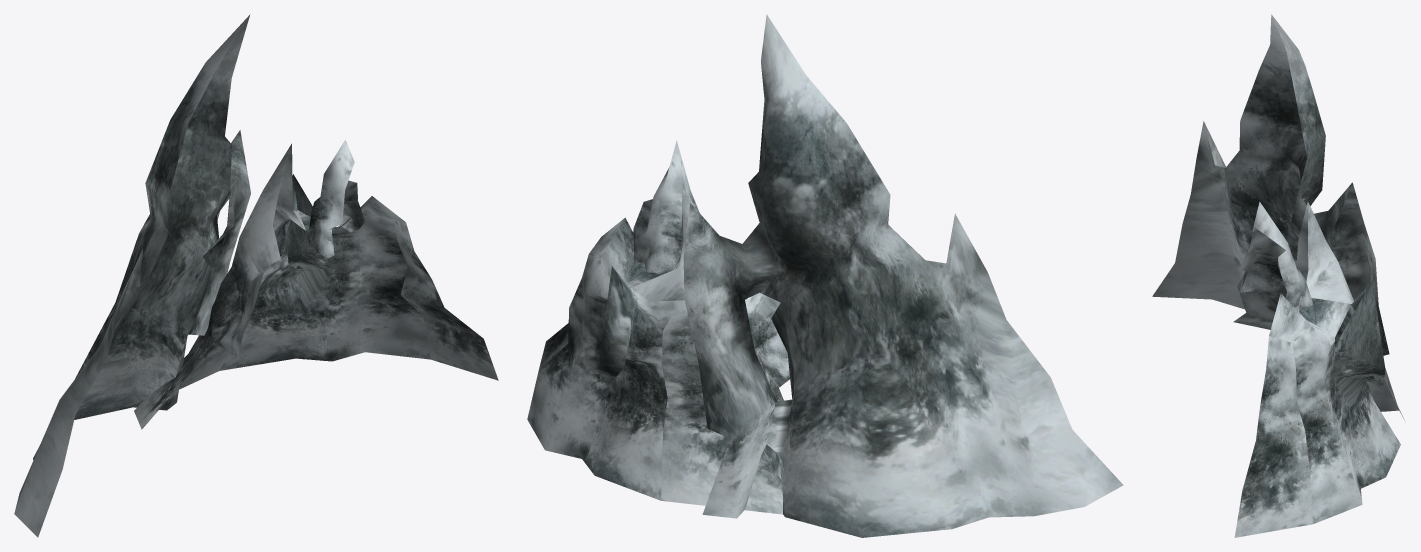
Rendered from S_Rock_White001_5.FBX.
3 views of the same model, side by side, from view 1: azimuth 30°, elevation 25°; view 2: azimuth 150°, elevation 25°; view 3: azimuth 270°, elevation 25° (orthographic). The views are drawn at different scales.
Visible parts, largest first — view 1: S_Rock_White001_5; view 2: S_Rock_White001_5; view 3: S_Rock_White001_5.
Part boxes in pixels (x1,y1,x2,y2): S_Rock_White001_5: (14,14,498,537); S_Rock_White001_5: (527,14,1123,537); S_Rock_White001_5: (1152,14,1405,537).
Size of the model in its own units: 1189 by 521 by 938.
